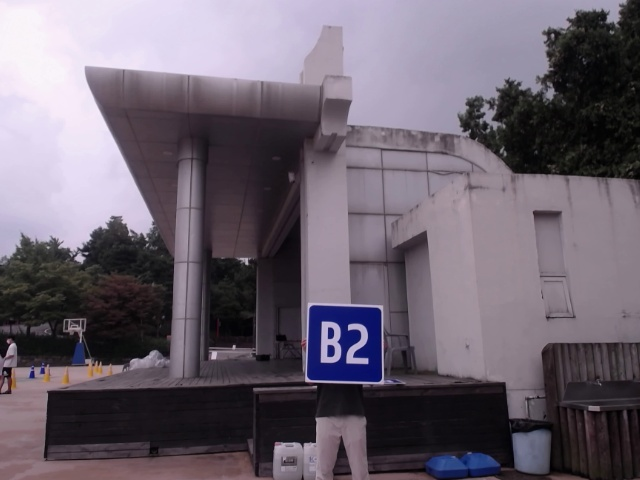delivery_b2: (306, 302, 384, 386)
